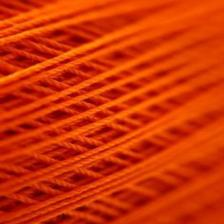orange: (1, 0, 224, 224)
